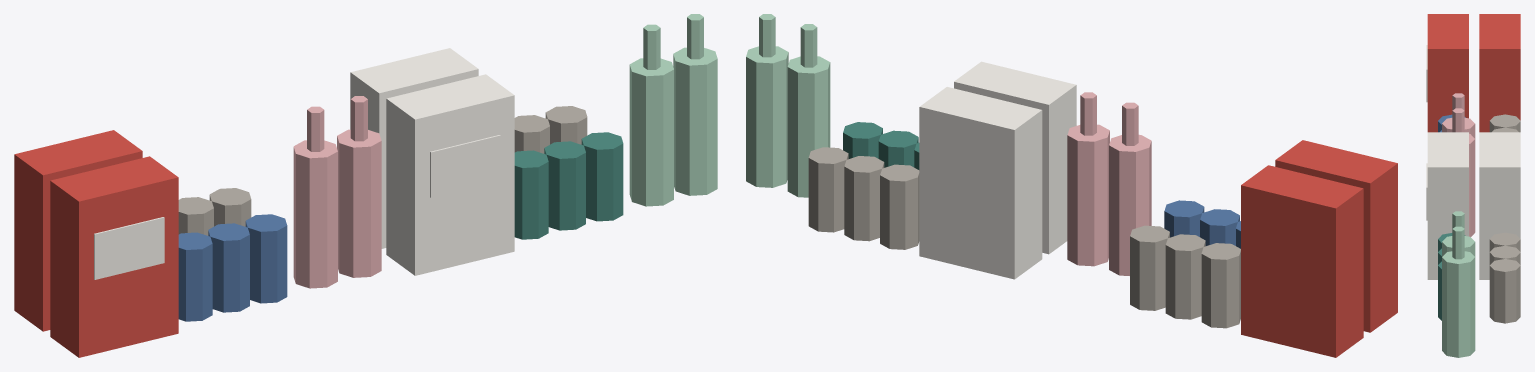
The model's file is shelf-goods.glb.
3 renders of one model, left to right at view 1: azimuth 30°, elevation 25°; view 2: azimuth 150°, elevation 25°; view 3: azimuth 270°, elevation 25°, orthographic. The views are drawn at different scales.
Parts seen in each view (by area): view 1: shelf-goods; view 2: shelf-goods; view 3: shelf-goods.
Boxes of the visible parts, x1,y1,x2,y2 form: shelf-goods: (14, 14, 717, 357); shelf-goods: (746, 14, 1397, 357); shelf-goods: (1426, 14, 1520, 357).
Size of the model in its own units: 1.06 by 0.26 by 0.1825.
